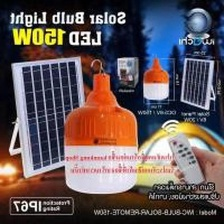light_bulb: (60, 71, 141, 195), (140, 55, 172, 103)
